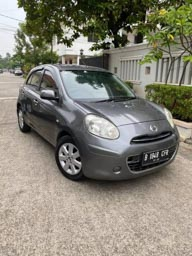plat: (142, 149, 169, 163)
